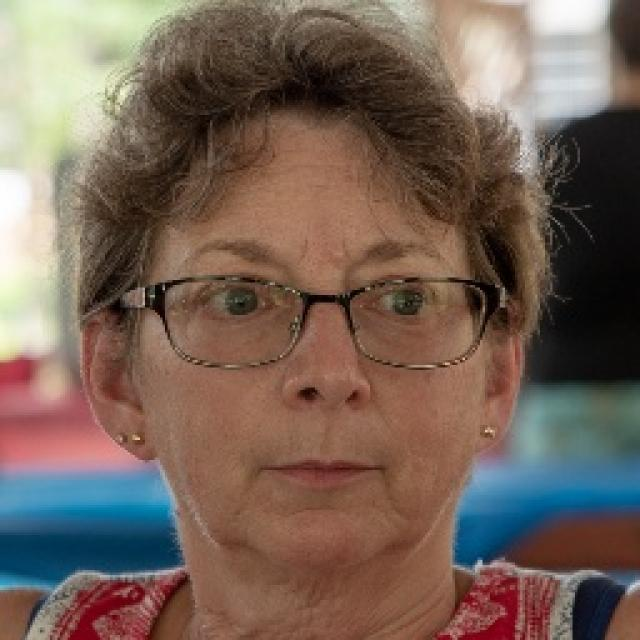earlobe: (80, 310, 154, 463), (476, 313, 526, 455)
